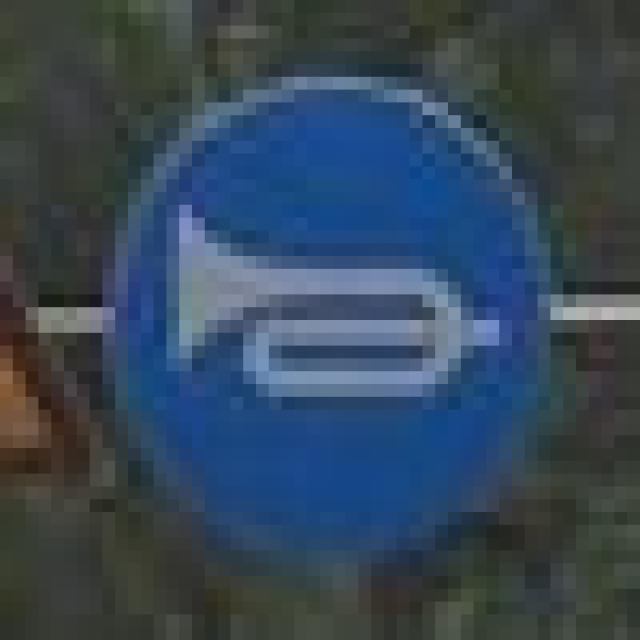compulsory_min_speed: (90, 77, 563, 550)
